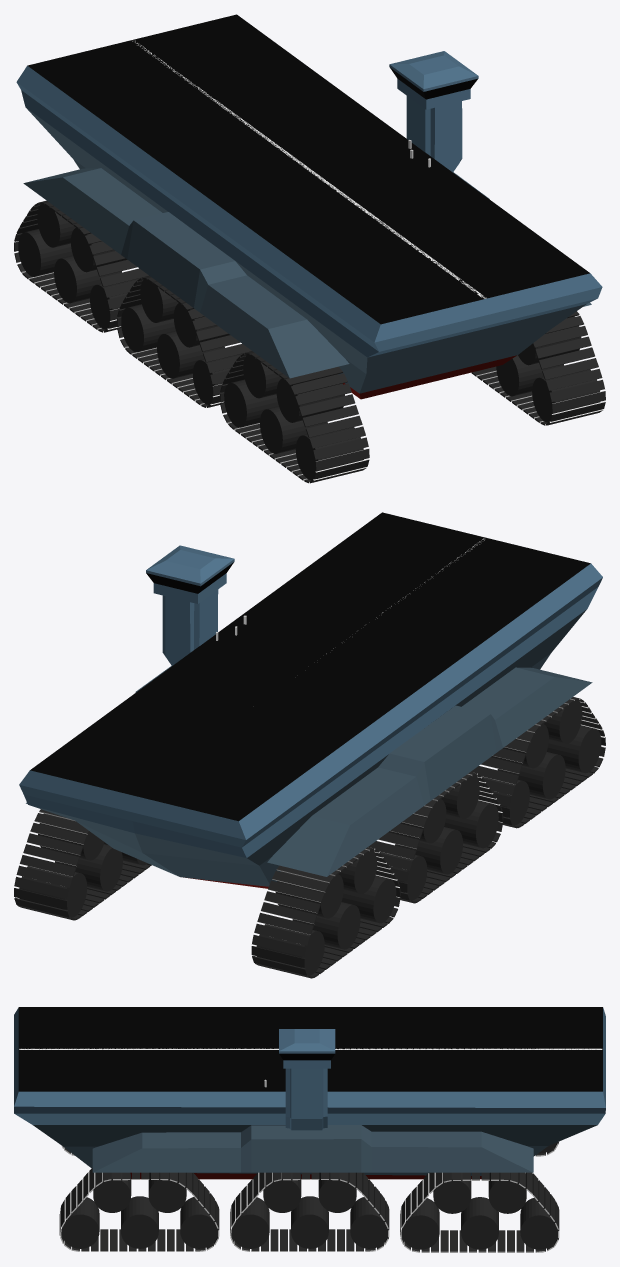
The model's file is Land carrier static.glb.
3 views of the same model, one above another, from view 1: azimuth 30°, elevation 25°; view 2: azimuth 150°, elevation 25°; view 3: azimuth 270°, elevation 25° (orthographic). The views are drawn at different scales.
Parts seen in each view (by area): view 1: Cube, Track piece.002, Track piece.003, Track piece.005, Track piece.001, Cube.002, Cube.001, Wheel.012, Wheel.030, Wheel.001, Wheel.033, Wheel.015 (+13 smaller); view 2: Cube, Track piece.001, Track piece, Track piece.005, Track piece.002, Cube.002, Cube.001, Wheel.016, Wheel.034, Wheel.002, Wheel.003, Wheel.033 (+13 smaller); view 3: Cube, Track piece, Track piece.003, Track piece.004, Cube.001, Cube.002, Wheel.007, Wheel.020, Wheel.027, Wheel.018, Wheel.024, Wheel (+10 smaller).
Boxes of the visible parts, x1,y1,x2,y2 form: Cube: [16, 14, 602, 399]; Track piece.002: [220, 351, 369, 483]; Track piece.003: [471, 311, 605, 425]; Track piece.005: [117, 276, 251, 407]; Track piece.001: [14, 200, 149, 332]; Cube.002: [389, 51, 478, 109]; Cube.001: [406, 96, 462, 172]; Wheel.012: [224, 379, 278, 427]; Wheel.030: [121, 304, 175, 352]; Wheel.001: [18, 229, 72, 276]; Wheel.033: [157, 331, 224, 378]; Wheel.015: [260, 406, 327, 453]; Cube: [19, 512, 602, 888]; Track piece.001: [251, 847, 400, 978]; Track piece: [14, 809, 151, 920]; Track piece.005: [368, 772, 503, 903]; Track piece.002: [471, 697, 605, 828]; Cube.002: [146, 545, 234, 603]; Cube.001: [162, 589, 218, 665]; Wheel.016: [547, 725, 601, 773]; Wheel.034: [444, 800, 498, 848]; Wheel.002: [341, 875, 396, 923]; Wheel.003: [292, 902, 360, 949]; Wheel.033: [395, 827, 462, 874]; Cube: [14, 1007, 605, 1179]; Track piece: [400, 1172, 559, 1252]; Track piece.003: [59, 1168, 219, 1251]; Track piece.004: [230, 1172, 389, 1251]; Cube.001: [285, 1068, 327, 1130]; Cube.002: [279, 1029, 335, 1068]; Wheel.007: [461, 1197, 498, 1249]; Wheel.020: [121, 1196, 158, 1248]; Wheel.027: [291, 1196, 328, 1248]; Wheel.018: [180, 1197, 217, 1248]; Wheel.024: [350, 1197, 387, 1248]; Wheel: [520, 1198, 557, 1249].
Size of the model in its own units: 72.88 by 57.72 by 150.
